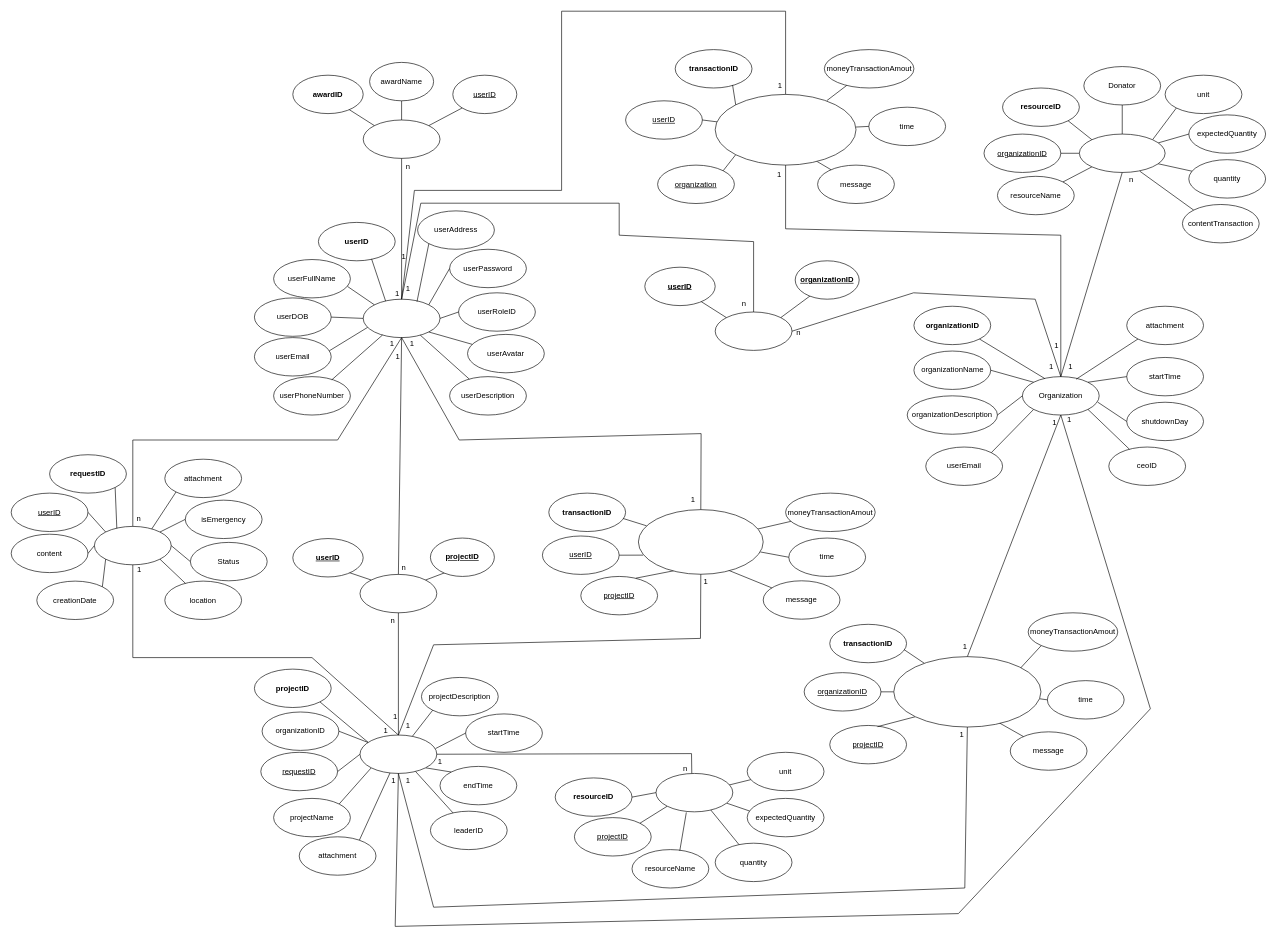
This 1277x938 diagram has some shape labels left out. The shapes that lost their labels are listed below. From the top down, each one's box as (x1, y1, x2, y2) in pixels, then its label:
(363, 119, 440, 158): Award
(715, 94, 856, 165): UserToOrganizationTransactionHistory
(1079, 133, 1165, 172): OrganizationResource
(363, 299, 440, 338): User
(715, 311, 792, 350): OrganizationMember
(94, 526, 171, 565): Request
(638, 509, 763, 574): UserToProjectTransactionHistory
(359, 574, 437, 613): ProjectMember
(893, 656, 1041, 727): OrganizationToProjectTransactionHistory
(359, 734, 437, 773): Project
(655, 773, 733, 812): ProjectResource
